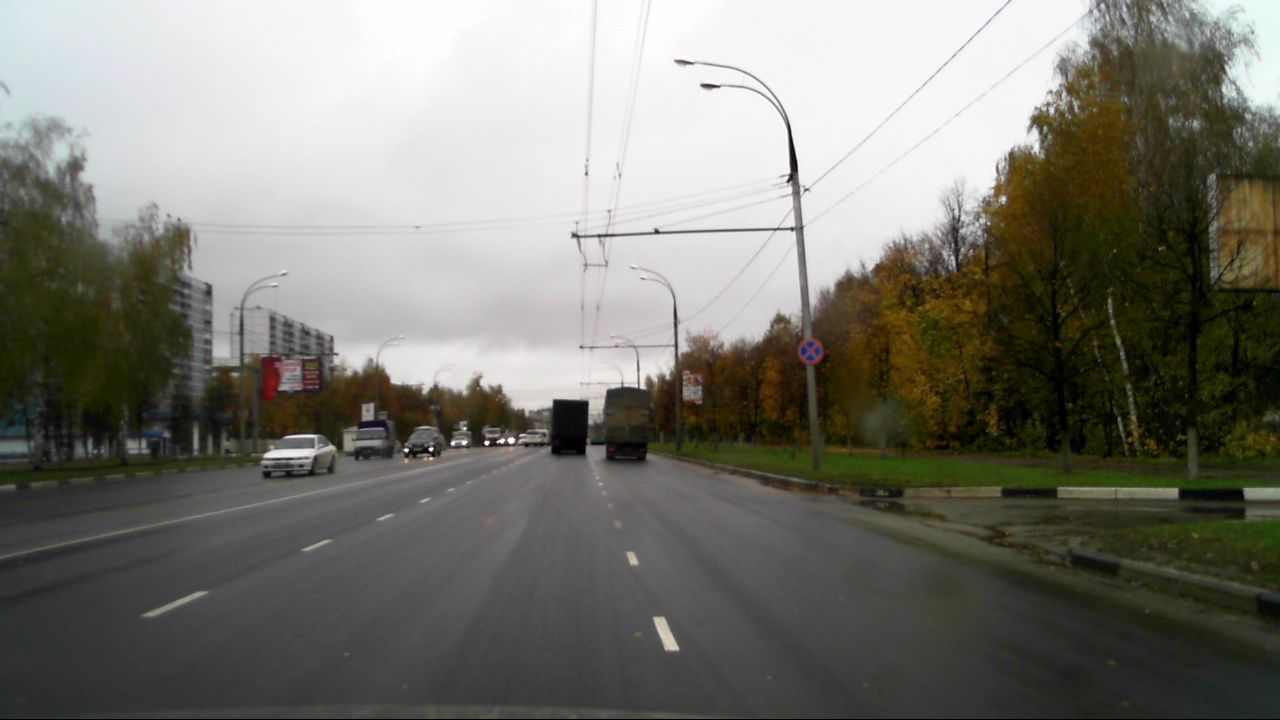No Parking: (797, 337, 824, 365)
